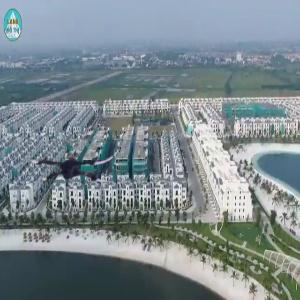drone: (33, 120, 116, 203)
